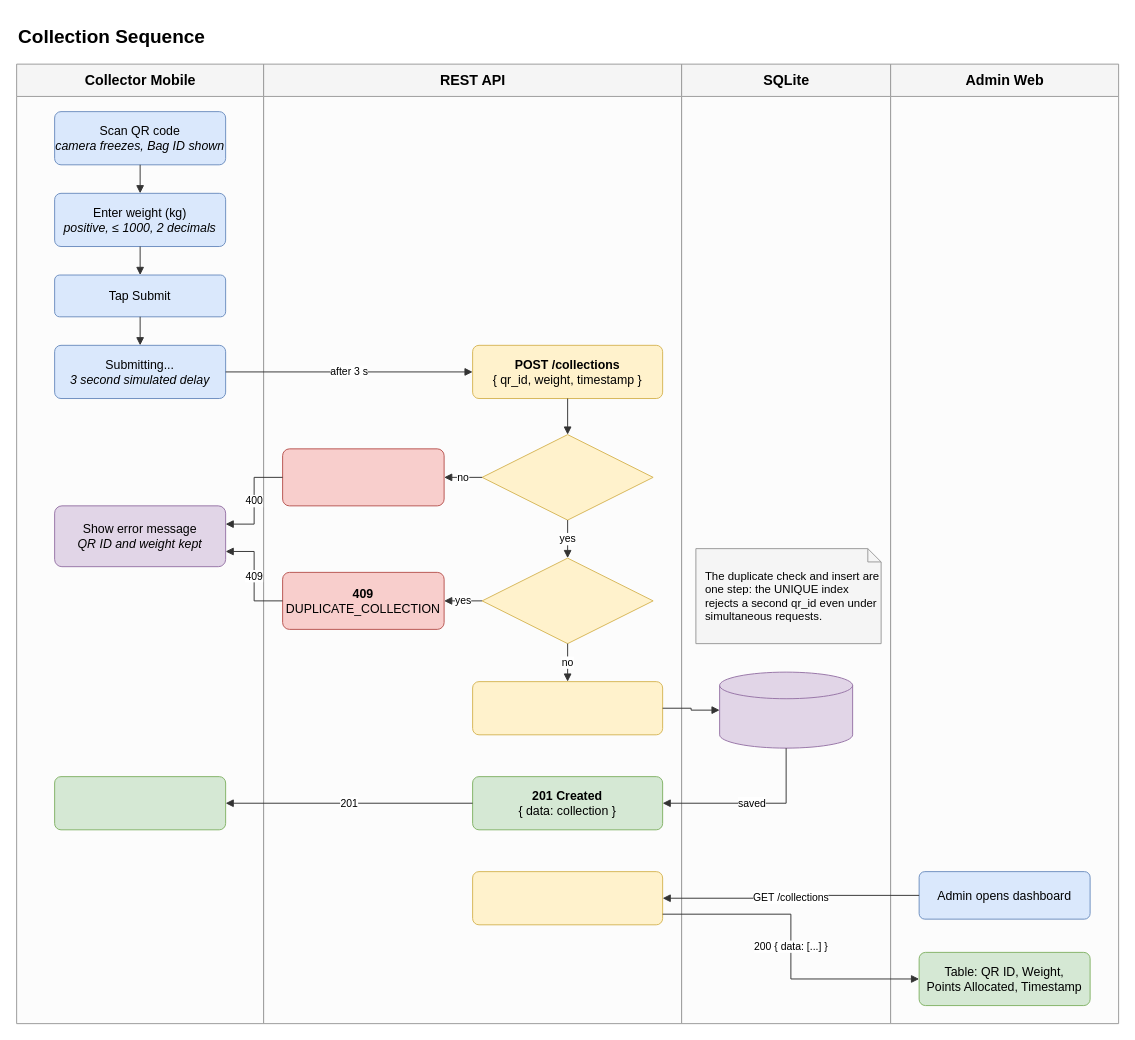
This 1135x1040 diagram has some shape labels left out. Here are the shapes that lost their labels. From the top down, the centre of each, then its label:
At point (363, 477): "400 VALIDATION_ERROR field details".
At point (567, 477): "Valid payload? Zod strict".
At point (567, 600): "qr_id already collected?".
At point (567, 708): "Calculate points round(weight × 15)".
At point (786, 709): "INSERT collection UNIQUE(qr_id)".
At point (140, 803): "Collection submitted successfully. points shown".
At point (567, 898): "Read collections ORDER BY created_at DESC".
